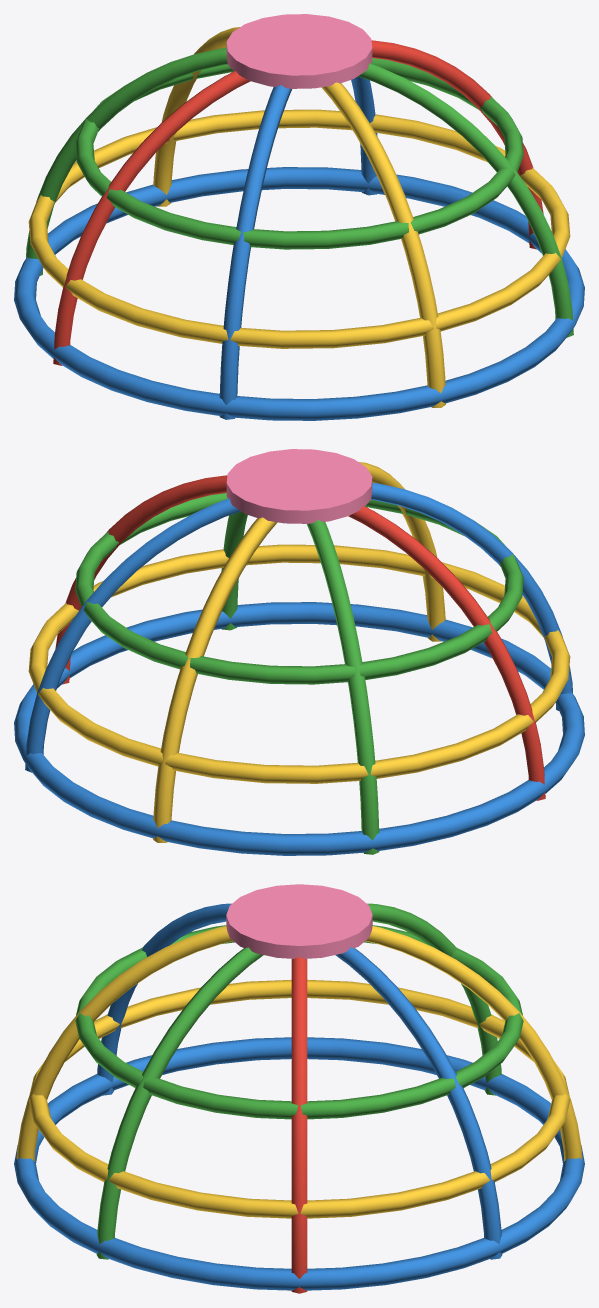
File: slide-dome.glb
3 views of the same model, one above another, from view 1: azimuth 30°, elevation 25°; view 2: azimuth 150°, elevation 25°; view 3: azimuth 270°, elevation 25° (orthographic).
Size of the model in its own units: 1.56 by 0.78 by 1.56.
